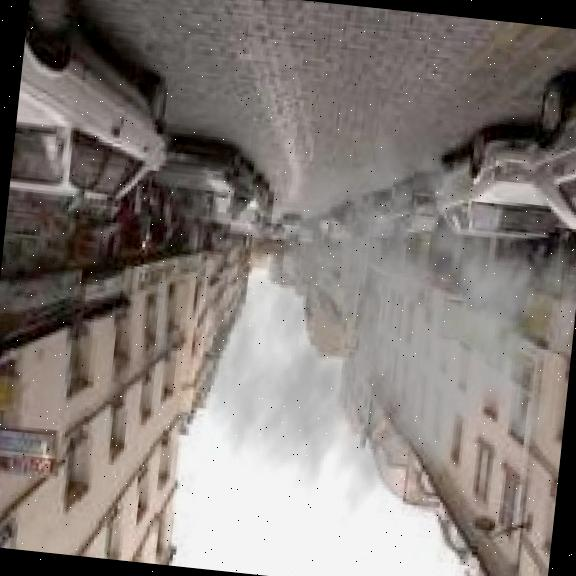smoke: (180, 111, 576, 554)
